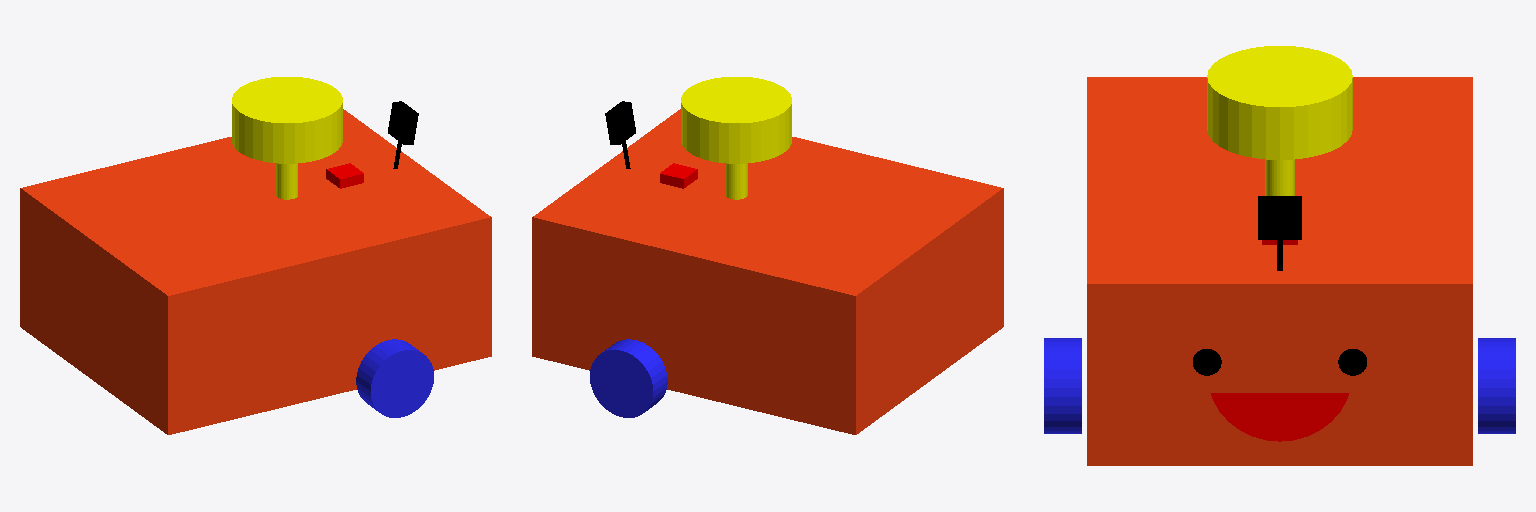
--- What the picture shows (computed from the rendered views, not written in the file) ---
3 views of the same robot in one strip: view 1: azimuth 30°, elevation 25°; view 2: azimuth 150°, elevation 25°; view 3: azimuth 270°, elevation 25° (orthographic).
Model robot with 18 links and 17 joints (6 revolute, 2 continuous, 9 fixed), rooted at base_link, posed all joints at 0.
Links seen in each view (by area): view 1: chassis, laser_frame, right_wheel, camera_link, imu_link; view 2: chassis, laser_frame, left_wheel, camera_link, imu_link; view 3: chassis, laser_frame, face_link, left_wheel, right_wheel, camera_link.
Link boxes in pixels (x1=…): chassis: x1=20, y1=109, x2=491, y2=434; laser_frame: x1=232, y1=77, x2=342, y2=199; right_wheel: x1=356, y1=339, x2=433, y2=417; camera_link: x1=388, y1=101, x2=418, y2=168; imu_link: x1=326, y1=163, x2=363, y2=188; chassis: x1=532, y1=109, x2=1003, y2=434; laser_frame: x1=681, y1=77, x2=791, y2=199; left_wheel: x1=590, y1=339, x2=667, y2=417; camera_link: x1=605, y1=101, x2=635, y2=168; imu_link: x1=660, y1=163, x2=697, y2=188; chassis: x1=1087, y1=77, x2=1472, y2=465; laser_frame: x1=1207, y1=46, x2=1352, y2=195; face_link: x1=1193, y1=349, x2=1366, y2=441; left_wheel: x1=1478, y1=338, x2=1515, y2=433; right_wheel: x1=1044, y1=338, x2=1081, y2=433; camera_link: x1=1258, y1=196, x2=1301, y2=270.
Size in the robot's own frame: 0.3375 by 0.323 by 0.255 metres.
Geometry: only primitive shapes (box / cylinder / sphere) drawn; not drawn: 7 mesh visuals (reference in a form the renderer does not follow).

The robot description file, URDF, robot "robot":
<?xml version="1.0" ?>
<!-- =================================================================================== -->
<!-- |    This document was autogenerated by xacro from ./src/articubot_one/description/robot.urdf.xacro | -->
<!-- |    EDITING THIS FILE BY HAND IS NOT RECOMMENDED                                 | -->
<!-- =================================================================================== -->
<robot name="robot">
  <!-- Specify some standard inertial calculations https://en.wikipedia.org/wiki/List_of_moments_of_inertia -->
  <!-- These make use of xacro's mathematical functionality -->
  <material name="white">
    <color rgba="1 1 1 1"/>
  </material>
  <material name="orange">
    <color rgba="1 0.3 0.1 1"/>
  </material>
  <material name="blue">
    <color rgba="0.2 0.2 1 1"/>
  </material>
  <material name="black">
    <color rgba="0 0 0 1"/>
  </material>
  <material name="red">
    <color rgba="1 0 0 1"/>
  </material>
  <material name="yellow">
    <color rgba="1 1 0 1"/>
  </material>
  <material name="green">
    <color rgba="0 1 0 1"/>
  </material>
  <material name="grey">
    <color rgba="0.2 0.2 0.2 1.0"/>
  </material>
  <material name="brown">
    <color rgba="0.8705882352941177 0.8117647058823529 0.7647058823529411 1.0"/>
  </material>
  <!-- BASE LINK -->
  <link name="base_link">

    </link>
  <!-- BASE_FOOTPRINT LINK -->
  <joint name="base_footprint_joint" type="fixed">
    <parent link="base_link"/>
    <child link="base_footprint"/>
    <origin rpy="0 0 0" xyz="0 0 0"/>
  </joint>
  <link name="base_footprint">
    </link>
  <!-- CHASSIS LINK -->
  <joint name="chassis_joint" type="fixed">
    <parent link="base_link"/>
    <child link="chassis"/>
    <origin xyz="-0.226 0 -0.01"/>
  </joint>
  <link name="chassis">
    <visual>
      <origin xyz="0.1675 0 0.069"/>
      <geometry>
        <box size="0.335 0.265 0.138"/>
      </geometry>
      <material name="orange"/>
    </visual>
    <collision>
      <origin xyz="0.1675 0 0.069"/>
      <geometry>
        <box size="0.335 0.265 0.138"/>
      </geometry>
    </collision>
    <inertial>
      <origin rpy="0 0 0" xyz="0.1675 0 0.069"/>
      <mass value="2.0"/>
      <inertia ixx="0.014878166666666668" ixy="0.0" ixz="0.0" iyy="0.02187816666666667" iyz="0.0" izz="0.030408333333333336"/>
    </inertial>
  </link>
  <gazebo reference="chassis">
    <material>Gazebo/Orange</material>
  </gazebo>
  <!-- LEFT WHEEL LINK -->
  <joint name="left_wheel_joint" type="continuous">
    <parent link="base_link"/>
    <child link="left_wheel"/>
    <origin rpy="-1.5707963267948966 0 0" xyz="0 0.1485 0"/>
    <axis xyz="0 0 1"/>
  </joint>
  <link name="left_wheel">
    <visual>
      <geometry>
        <cylinder length="0.026" radius="0.033"/>
      </geometry>
      <material name="blue"/>
    </visual>
    <collision>
      <geometry>
        <sphere radius="0.033"/>
      </geometry>
    </collision>
    <inertial>
      <origin rpy="0 0 0" xyz="0 0 0"/>
      <mass value="0.05"/>
      <inertia ixx="1.642916666666667e-05" ixy="0.0" ixz="0.0" iyy="1.642916666666667e-05" iyz="0.0" izz="2.7225000000000004e-05"/>
    </inertial>
  </link>
  <gazebo reference="left_wheel">
    <material>Gazebo/Blue</material>
  </gazebo>
  <!-- RIGHT WHEEL LINK -->
  <joint name="right_wheel_joint" type="continuous">
    <parent link="base_link"/>
    <child link="right_wheel"/>
    <origin rpy="1.5707963267948966 0 0" xyz="0 -0.1485 0"/>
    <axis xyz="0 0 -1"/>
  </joint>
  <link name="right_wheel">
    <visual>
      <geometry>
        <cylinder length="0.026" radius="0.033"/>
      </geometry>
      <material name="blue"/>
    </visual>
    <collision>
      <geometry>
        <sphere radius="0.033"/>
      </geometry>
    </collision>
    <inertial>
      <origin rpy="0 0 0" xyz="0 0 0"/>
      <mass value="0.05"/>
      <inertia ixx="1.642916666666667e-05" ixy="0.0" ixz="0.0" iyy="1.642916666666667e-05" iyz="0.0" izz="2.7225000000000004e-05"/>
    </inertial>
  </link>
  <gazebo reference="right_wheel">
    <material>Gazebo/Blue</material>
  </gazebo>
  <!-- CASTER WHEEL LINK -->
  <joint name="caster_wheel_joint" type="fixed">
    <parent link="chassis"/>
    <child link="caster_wheel"/>
    <origin xyz="0.075 0 -0.013"/>
  </joint>
  <link name="caster_wheel">
    <visual>
      <geometry>
        <sphere radius="0.01"/>
      </geometry>
      <material name="white"/>
    </visual>
    <collision>
      <geometry>
        <sphere radius="0.01"/>
      </geometry>
    </collision>
    <inertial>
      <origin rpy="0 0 0" xyz="0 0 0"/>
      <mass value="0.01"/>
      <inertia ixx="4.0000000000000003e-07" ixy="0.0" ixz="0.0" iyy="4.0000000000000003e-07" iyz="0.0" izz="4.0000000000000003e-07"/>
    </inertial>
  </link>
  <gazebo reference="caster_wheel">
    <material>Gazebo/White</material>
    <mu1 value="0.001"/>
    <mu2 value="0.001"/>
  </gazebo>
  <ros2_control name="RealRobot" type="system">
    <hardware>
      <plugin>ros2_control_demo_example_2/DiffBotSystemHardware</plugin>
      <param name="example_param_hw_start_duration_sec">0</param>
      <param name="example_param_hw_stop_duration_sec">3.0</param>
    </hardware>
    <joint name="left_wheel_joint">
      <command_interface name="velocity"/>
      <state_interface name="position"/>
      <state_interface name="velocity"/>
    </joint>
    <joint name="right_wheel_joint">
      <command_interface name="velocity"/>
      <state_interface name="position"/>
      <state_interface name="velocity"/>
    </joint>
  </ros2_control>
  <!-- <ros2_control name="RealRobotArm" type="system">
            <hardware>
                <plugin>ros2_control_demo_example_1/RRBotSystemPositionOnlyHardware</plugin>
                <param name="example_param_hw_start_duration_sec">0</param>
                <param name="example_param_hw_stop_duration_sec">3.0</param>
                <param name="example_param_hw_slowdown">100</param>
            </hardware>
            <joint name="base_arduino_arm_joint">
                <command_interface name="position">
                    <param name="min">-1</param>
                    <param name="max">1</param>
                </command_interface>
                <state_interface name="position" />
            </joint>
            <joint name="shoulder_joint">
                <command_interface name="position">
                    <param name="min">-1</param>
                    <param name="max">1</param>
                </command_interface>
                <state_interface name="position" />
            </joint>
            <joint name="elbow_joint">
                <command_interface name="position">
                    <param name="min">-1</param>
                    <param name="max">1</param>
                </command_interface>
                <state_interface name="position" />
            </joint>
            <joint name="wrist_joint">
                <command_interface name="position">
                    <param name="min">-1</param>
                    <param name="max">1</param>
                </command_interface>
                <state_interface name="position" />
            </joint>
            <joint name="gripper1_joint">
                <command_interface name="position">
                    <param name="min">-1</param>
                    <param name="max">1</param>
                </command_interface>
                <state_interface name="position" />
            </joint>
            <joint name="gripper2_joint">
                <command_interface name="position">
                    <param name="min">-1</param>
                    <param name="max">1</param>
                </command_interface>
                <state_interface name="position" />
            </joint>            
        </ros2_control> -->
  <gazebo>
    <plugin filename="libgazebo_ros2_control.so" name="gazebo_ros2_control">
      <parameters>[local-path]/Documents/Projects/pinecone_pi4_ws/install/articubot_one/share/articubot_one/config/my_controllers.yaml</parameters>
      <parameters>[local-path]/Documents/Projects/pinecone_pi4_ws/install/articubot_one/share/articubot_one/config/gaz_ros2_ctl_use_sim.yaml</parameters>
      <!-- <parameters>$(find arduino_arm_config)/config/ros2_controllers.yaml</parameters> -->
      <!-- <parameters>$(find articubot_one)/config/forward_position_publisher.yaml</parameters> -->
    </plugin>
  </gazebo>
  <joint name="laser_joint" type="fixed">
    <parent link="chassis"/>
    <child link="laser_frame"/>
    <origin rpy="0 0 0" xyz="0.20 0 0.212"/>
  </joint>
  <link name="laser_frame">
    <visual>
      <geometry>
        <cylinder length="0.04" radius="0.05"/>
      </geometry>
      <material name="yellow"/>
    </visual>
    <visual>
      <origin xyz="0 0 -0.05"/>
      <geometry>
        <cylinder length="0.1" radius="0.01"/>
      </geometry>
      <material name="yellow"/>
    </visual>
    <collision>
      <geometry>
        <cylinder length="0.04" radius="0.05"/>
      </geometry>
    </collision>
    <inertial>
      <origin rpy="0 0 0" xyz="0 0 0"/>
      <mass value="0.1"/>
      <inertia ixx="7.583333333333335e-05" ixy="0.0" ixz="0.0" iyy="7.583333333333335e-05" iyz="0.0" izz="0.00012500000000000003"/>
    </inertial>
  </link>
  <gazebo reference="laser_frame">
    <material>Gazebo/Yellow</material>
    <sensor name="laser" type="ray">
      <pose> 0 0 0 0 0 0 </pose>
      <visualize>false</visualize>
      <update_rate>10</update_rate>
      <ray>
        <scan>
          <horizontal>
            <samples>360</samples>
            <min_angle>-3.14</min_angle>
            <max_angle>3.14</max_angle>
          </horizontal>
        </scan>
        <range>
          <min>0.3</min>
          <max>12</max>
        </range>
      </ray>
      <plugin filename="libgazebo_ros_ray_sensor.so" name="laser_controller">
        <ros>
          <argument>~/out:=scan</argument>
        </ros>
        <output_type>sensor_msgs/LaserScan</output_type>
        <frame_name>laser_frame</frame_name>
      </plugin>
    </sensor>
  </gazebo>
  <joint name="camera_joint" type="fixed">
    <parent link="chassis"/>
    <child link="camera_link"/>
    <origin rpy="0 0.18 0" xyz="0.32 0 0.181"/>
  </joint>
  <link name="camera_link">
    <visual>
      <geometry>
        <box size="0.010 0.03 0.03"/>
      </geometry>
      <material name="black"/>
    </visual>
    <visual>
      <origin xyz="0 0 -0.05"/>
      <geometry>
        <cylinder length="0.1" radius="0.002"/>
      </geometry>
      <material name="black"/>
    </visual>
    <collision>
      <geometry>
        <box size="0.001 0.001 0.001"/>
      </geometry>
    </collision>
  </link>
  <joint name="camera_optical_joint" type="fixed">
    <parent link="camera_link"/>
    <child link="camera_link_optical"/>
    <origin rpy="-1.5707963267948966 0 -1.5707963267948966" xyz="0 0 0"/>
  </joint>
  <link name="camera_link_optical"/>
  <gazebo reference="camera_link">
    <material>Gazebo/Black</material>
    <sensor name="camera" type="camera">
      <pose> 0 0 0 0 0 0 </pose>
      <visualize>true</visualize>
      <update_rate>10</update_rate>
      <camera>
        <horizontal_fov>1.089</horizontal_fov>
        <image>
          <format>R8G8B8</format>
          <width>640</width>
          <height>480</height>
        </image>
        <clip>
          <near>0.05</near>
          <far>8.0</far>
        </clip>
      </camera>
      <plugin filename="libgazebo_ros_camera.so" name="camera_controller">
        <frame_name>camera_link_optical</frame_name>
      </plugin>
    </sensor>
  </gazebo>
  <joint name="imu_joint" type="fixed">
    <parent link="chassis"/>
    <child link="imu_link"/>
    <origin rpy="0 0 0" xyz="0.26 0 0.14"/>
  </joint>
  <link name="imu_link">
    <visual>
      <geometry>
        <box size="0.025 0.025 0.015"/>
      </geometry>
      <material name="red"/>
    </visual>
    <collision>
      <geometry>
        <box size="0.05 0.05 0.05"/>
      </geometry>
    </collision>
    <inertial>
      <origin rpy="0 0 0" xyz="0 0 0"/>
      <mass value="0.01"/>
      <inertia ixx="4.166666666666667e-06" ixy="0.0" ixz="0.0" iyy="4.166666666666667e-06" iyz="0.0" izz="4.166666666666667e-06"/>
    </inertial>
  </link>
  <gazebo reference="imu_link">
    <material>Gazebo/Red</material>
    <gravity>true</gravity>
    <sensor name="twr_imu" type="imu">
      <always_on>true</always_on>
      <update_rate>100</update_rate>
      <visualize>true</visualize>
      <imu>
        <orientation>
          <x>
            <noise type="gaussian">
              <mean>0.0</mean>
              <stddev>2e-3</stddev>
            </noise>
          </x>
          <y>
            <noise type="gaussian">
              <mean>0.0</mean>
              <stddev>2e-3</stddev>
            </noise>
          </y>
          <z>
            <noise type="gaussian">
              <mean>0.0</mean>
              <stddev>2e-3</stddev>
            </noise>
          </z>
        </orientation>
        <angular_velocity>
          <x>
            <noise type="gaussian">
              <mean>0.0</mean>
              <stddev>2e-4</stddev>
            </noise>
          </x>
          <y>
            <noise type="gaussian">
              <mean>0.0</mean>
              <stddev>2e-4</stddev>
            </noise>
          </y>
          <z>
            <noise type="gaussian">
              <mean>0.0</mean>
              <stddev>2e-4</stddev>
            </noise>
          </z>
        </angular_velocity>
        <linear_acceleration>
          <x>
            <noise type="gaussian">
              <mean>0.0</mean>
              <stddev>1.7e-2</stddev>
            </noise>
          </x>
          <y>
            <noise type="gaussian">
              <mean>0.0</mean>
              <stddev>1.7e-2</stddev>
            </noise>
          </y>
          <z>
            <noise type="gaussian">
              <mean>0.0</mean>
              <stddev>1.7e-2</stddev>
            </noise>
          </z>
        </linear_acceleration>
      </imu>
      <plugin filename="libgazebo_ros_imu_sensor.so" name="two_wheeled_robot_imu">
        <initial_orientation_as_reference>false</initial_orientation_as_reference>
        <frame_name>imu_link</frame_name>
        <ros>
          <namespace>/imu</namespace>
          <remapping>~/out:=data</remapping>
        </ros>
      </plugin>
    </sensor>
  </gazebo>
  <joint name="face_joint" type="fixed">
    <parent link="chassis"/>
    <child link="face_link"/>
    <origin rpy="0 0 0" xyz="0.335 0 0.069"/>
  </joint>
  <link name="face_link">
    <visual>
      <origin rpy="0 1.5707963267948966 0" xyz="0 0.05 0.01"/>
      <geometry>
        <cylinder length="0.002" radius="0.01"/>
      </geometry>
      <material name="black"/>
    </visual>
    <visual>
      <origin rpy="0 1.5707963267948966 0" xyz="0 -0.05 0.01"/>
      <geometry>
        <cylinder length="0.002" radius="0.01"/>
      </geometry>
      <material name="black"/>
    </visual>
    <visual>
      <origin rpy="0 1.5 0" xyz="-0.011 0 -0.00"/>
      <geometry>
        <cylinder length="0.02" radius="0.05"/>
      </geometry>
      <material name="red"/>
    </visual>
    <collision>
      <geometry>
        <box size="0.001 0.001 0.001"/>
      </geometry>
    </collision>
  </link>
  <gazebo reference="face_link">
    <material>Gazebo/Black</material>
  </gazebo>
  <!-- <?xml version="1.0"?> -->
  <!-- created with Phobos 1.0.1 "Capricious Choutengan" -->
  <!-- <robot name="arduino_arm"> -->
  <!-- <link name="base_link"/> -->
  <joint name="base_link_arduino_arm_joint" type="fixed">
    <parent link="base_link"/>
    <child link="base_link_arduino_arm"/>
    <origin rpy="0 0 0" xyz="-0.14 0 0.145"/>
  </joint>
  <link name="base_link_arduino_arm">
    <inertial>
      <origin rpy="0 0 0" xyz="0 0 0"/>
      <mass value="0.01"/>
      <inertia ixx="0.001" ixy="0" ixz="0" iyy="0.001" iyz="0" izz="0.001"/>
    </inertial>
    <visual>
      <origin rpy="1.5708 0 0" xyz="0 0 0"/>
      <geometry>
        <mesh filename="file://[local-path]/Documents/Projects/pinecone_pi4_ws/install/arduino_arm/share/arduino_arm/meshes/Base.stl" scale="0.00098 0.00098 0.00098"/>
      </geometry>
      <material name="">
        <color rgba="0 1 0 1"/>
      </material>
    </visual>
    <collision>
      <origin rpy="3.14159 0 0" xyz="-0.0029 0.00016 0.01165"/>
      <geometry>
        <cylinder length="0.05469" radius="0.0592"/>
      </geometry>
    </collision>
  </link>
  <link name="waist_link">
    <inertial>
      <origin rpy="0 0 0" xyz="0 0 0"/>
      <mass value="0.001"/>
      <inertia ixx="0.001" ixy="0" ixz="0" iyy="0.001" iyz="0" izz="0.001"/>
    </inertial>
    <visual>
      <origin rpy="1.5708 0 0" xyz="0 0 0"/>
      <geometry>
        <mesh filename="file://[local-path]/Documents/Projects/pinecone_pi4_ws/install/arduino_arm/share/arduino_arm/meshes/Waist.stl" scale="0.00098 0.00098 0.00098"/>
      </geometry>
      <material name="">
        <color rgba="0 1 0 1"/>
      </material>
    </visual>
    <collision>
      <origin rpy="1.5708 0 0" xyz="0.00019 0 3e-05"/>
      <geometry>
        <mesh filename="file://[local-path]/Documents/Projects/pinecone_pi4_ws/install/arduino_arm/share/arduino_arm/meshes/Waist.001.stl" scale="0.00392 0.00392 0.00392"/>
      </geometry>
    </collision>
  </link>
  <link name="arm1_link">
    <inertial>
      <origin rpy="0 0 0" xyz="0 0 0"/>
      <mass value="0.001"/>
      <inertia ixx="0.001" ixy="0" ixz="0" iyy="0.001" iyz="0" izz="0.001"/>
    </inertial>
    <visual>
      <origin rpy="0 0 0" xyz="0 0 0"/>
      <geometry>
        <mesh filename="file://[local-path]/Documents/Projects/pinecone_pi4_ws/install/arduino_arm/share/arduino_arm/meshes/Arm_01.stl" scale="0.00098 0.00098 0.00098"/>
      </geometry>
      <material name="">
        <color rgba="0 1 0 1"/>
      </material>
    </visual>
    <collision>
      <origin rpy="0 0 0" xyz="-0.00032 0.05624 0.00439"/>
      <geometry>
        <box size="0.04221 0.16277 0.02051"/>
      </geometry>
    </collision>
  </link>
  <link name="arm2_link">
    <inertial>
      <origin rpy="0 0 0" xyz="0 0 0"/>
      <mass value="0.001"/>
      <inertia ixx="0.001" ixy="0" ixz="0" iyy="0.001" iyz="0" izz="0.001"/>
    </inertial>
    <visual>
      <origin rpy="-1.48894 -1.57209 1.57067" xyz="0 0 0"/>
      <geometry>
        <mesh filename="file://[local-path]/Documents/Projects/pinecone_pi4_ws/install/arduino_arm/share/arduino_arm/meshes/Arm_02.stl" scale="0.00098 0.00098 0.00098"/>
      </geometry>
      <material name="">
        <color rgba="0 1 0 1"/>
      </material>
    </visual>
    <collision>
      <origin rpy="-1.48879 -1.57209 1.57066" xyz="-0.00436 0.05688 0.00738"/>
      <geometry>
        <box size="0.02681 0.16398 0.0384"/>
      </geometry>
    </collision>
  </link>
  <link name="arm3_link">
    <inertial>
      <origin rpy="0 0 0" xyz="0 0 0"/>
      <mass value="0.0001"/>
      <inertia ixx="0.001" ixy="0" ixz="0" iyy="0.001" iyz="0" izz="0.001"/>
    </inertial>
    <visual>
      <origin rpy="1.2416 1.55752 1.5708" xyz="0 0 0"/>
      <geometry>
        <mesh filename="file://[local-path]/Documents/Projects/pinecone_pi4_ws/install/arduino_arm/share/arduino_arm/meshes/Arm_03.stl" scale="0.00098 0.00098 0.00098"/>
      </geometry>
      <material name="">
        <color rgba="0 1 0 1"/>
      </material>
    </visual>
    <collision>
      <origin rpy="1.24161 1.55752 1.5708" xyz="-0.00062 0.00019 0.00049"/>
      <geometry>
        <mesh filename="file://[local-path]/Documents/Projects/pinecone_pi4_ws/install/arduino_arm/share/arduino_arm/meshes/Arm_03.001.stl" scale="1.0 1.0 1.0"/>
      </geometry>
    </collision>
  </link>
  <link name="gripper1_link">
    <inertial>
      <origin rpy="0 0 0" xyz="0 0 0"/>
      <mass value="0.0001"/>
      <inertia ixx="0.001" ixy="0" ixz="0" iyy="0.001" iyz="0" izz="0.001"/>
    </inertial>
    <visual>
      <origin rpy="-1.86728 0 0" xyz="0 -0.01 0.014"/>
      <geometry>
        <mesh filename="file://[local-path]/Documents/Projects/pinecone_pi4_ws/install/arduino_arm/share/arduino_arm/meshes/gripper1_fix.stl" scale="0.001 0.001 0.001"/>
      </geometry>
      <material name="">
        <color rgba="0 1 1 1"/>
      </material>
    </visual>
    <collision>
      <origin rpy="-1.86728 0 0" xyz="0 -0.01 0.014"/>
      <geometry>
        <mesh filename="file://[local-path]/Documents/Projects/pinecone_pi4_ws/install/arduino_arm/share/arduino_arm/meshes/gripper1_fix.stl" scale="0.001 0.001 0.001"/>
      </geometry>
    </collision>
  </link>
  <link name="gripper2_link">
    <inertial>
      <origin rpy="0 0 0" xyz="0 0 0"/>
      <mass value="0.0001"/>
      <inertia ixx="0.001" ixy="0" ixz="0" iyy="0.001" iyz="0" izz="0.001"/>
    </inertial>
    <visual>
      <origin rpy="1.25673 0 0" xyz="-0.0015 0.01 -0.0165"/>
      <geometry>
        <mesh filename="file://[local-path]/Documents/Projects/pinecone_pi4_ws/install/arduino_arm/share/arduino_arm/meshes/gripper2_fix.stl" scale="0.001 0.001 0.001"/>
      </geometry>
      <material name="">
        <color rgba="0 1 1 1"/>
      </material>
    </visual>
    <collision>
      <origin rpy="1.25673 0 0" xyz="-0.0015 0.01 -0.0165"/>
      <geometry>
        <cylinder length="0.001" radius="0.001"/>
      </geometry>
    </collision>
  </link>
  <joint name="base_waist_joint" type="revolute">
    <origin rpy="0 0 0" xyz="-0.00345 -1e-05 0.04449"/>
    <parent link="base_link_arduino_arm"/>
    <child link="waist_link"/>
    <axis xyz="0 0 1.0"/>
    <limit effort="1000.0" lower="-1.571" upper="1.571" velocity="1.0"/>
  </joint>
  <joint name="shoulder_joint" type="revolute">
    <origin rpy="1.5708 0.03778 1.5708" xyz="0.00396 0.01369 0.03521"/>
    <parent link="waist_link"/>
    <child link="arm1_link"/>
    <axis xyz="0 0 1.0"/>
    <limit effort="1000.0" lower="-1.571" upper="1.571" velocity="1.0"/>
  </joint>
  <joint name="elbow_joint" type="revolute">
    <origin rpy="-0.0013 -3.14159 0.03778" xyz="-7e-05 0.11689 -0.00792"/>
    <parent link="arm1_link"/>
    <child link="arm2_link"/>
    <axis xyz="0 0 1.0"/>
    <limit effort="1000.0" lower="-1.57" upper="1.57" velocity="1.0"/>
  </joint>
  <joint name="wrist_joint" type="revolute">
    <origin rpy="-0.01458 3.14159 0" xyz="-0.0088 0.12752 -0.00487"/>
    <parent link="arm2_link"/>
    <child link="arm3_link"/>
    <axis xyz="0 0 1.0"/>
    <limit effort="1000.0" lower="-1.57" upper="1.57" velocity="1.0"/>
  </joint>
  <joint name="gripper1_joint" type="revolute">
    <origin rpy="-1.27431 -1.58408 1.5708" xyz="-0.02735 0.03009 -0.02013"/>
    <parent link="arm3_link"/>
    <child link="gripper1_link"/>
    <axis xyz="0 0 1.0"/>
    <limit effort="1000.0" lower="0" upper="1.047" velocity="1.0"/>
  </joint>
  <joint name="gripper2_joint" type="revolute">
    <origin rpy="-1.25673 -1.55752 -1.57079" xyz="-0.02492 0.03048 0.00564"/>
    <parent link="arm3_link"/>
    <child link="gripper2_link"/>
    <axis xyz="0 0 1.0"/>
    <limit effort="1000.0" lower="0" upper="1.047" velocity="1.0"/>
    <mimic joint="gripper1_joint" multiplier="1.0" offset="0.0"/>
  </joint>
  <transmission name="trans_base_joint">
    <type>transmission_interface/SimpleTransmission</type>
    <joint name="base_joint">
      <hardwareInterface>hardware_interface/PositionJointInterface</hardwareInterface>
    </joint>
    <actuator name="base_joint_motor">
      <hardwareInterface>hardware_interface/PositionJointInterface</hardwareInterface>
      <mechanicalReduction>1</mechanicalReduction>
    </actuator>
  </transmission>
  <transmission name="trans_shoulder">
    <type>transmission_interface/SimpleTransmission</type>
    <joint name="shoulder_joint">
      <hardwareInterface>hardware_interface/PositionJointInterface</hardwareInterface>
    </joint>
    <actuator name="shoulder_motor">
      <hardwareInterface>hardware_interface/PositionJointInterface</hardwareInterface>
      <mechanicalReduction>1</mechanicalReduction>
    </actuator>
  </transmission>
  <transmission name="trans_elbow">
    <type>transmission_interface/SimpleTransmission</type>
    <joint name="elbow_joint">
      <hardwareInterface>hardware_interface/PositionJointInterface</hardwareInterface>
    </joint>
    <actuator name="elbow_motor">
      <hardwareInterface>hardware_interface/PositionJointInterface</hardwareInterface>
      <mechanicalReduction>1</mechanicalReduction>
    </actuator>
  </transmission>
  <transmission name="trans_wrist">
    <type>transmission_interface/SimpleTransmission</type>
    <joint name="wrist_joint">
      <hardwareInterface>hardware_interface/PositionJointInterface</hardwareInterface>
    </joint>
    <actuator name="wrist_motor">
      <hardwareInterface>hardware_interface/PositionJointInterface</hardwareInterface>
      <mechanicalReduction>1</mechanicalReduction>
    </actuator>
  </transmission>
  <transmission name="trans_gripper">
    <type>transmission_interface/SimpleTransmission</type>
    <joint name="gripper1_joint">
      <hardwareInterface>hardware_interface/PositionJointInterface</hardwareInterface>
    </joint>
    <actuator name="gripper_motor">
      <hardwareInterface>hardware_interface/PositionJointInterface</hardwareInterface>
      <mechanicalReduction>1</mechanicalReduction>
    </actuator>
  </transmission>
  <!--
    <transmission name="trans_gripper2">
        <type>transmission_interface/SimpleTransmission</type>
        <joint name="gripper2_joint">
            <hardwareInterface>hardware_interface/EffortJointInterface</hardwareInterface>
        </joint>
        <actuator name="gripper2_motor">
            <hardwareInterface>hardware_interface/EffortJointInterface</hardwareInterface>
            <mechanicalReduction>1</mechanicalReduction>
        </actuator>
    </transmission>

    <gazebo>
        <plugin name="gazebo_ros2_control" filename="libgazebo_ros2_control.so">
            <robotNamespace>/</robotNamespace>
        </plugin>
    </gazebo>
-->
  <gazebo reference="base_link_arduino_arm">
    <material>Gazebo/Green</material>
  </gazebo>
  <gazebo reference="waist_link">
    <material>Gazebo/Green</material>
  </gazebo>
  <gazebo reference="arm1_link">
    <material>Gazebo/Green</material>
  </gazebo>
  <gazebo reference="arm2_link">
    <material>Gazebo/Green</material>
  </gazebo>
  <gazebo reference="arm3_link">
    <material>Gazebo/Green</material>
  </gazebo>
  <gazebo reference="gripper1_link">
    <material>Gazebo/Green</material>
  </gazebo>
  <gazebo reference="gripper2_link">
    <material>Gazebo/Green</material>
  </gazebo>
</robot>
